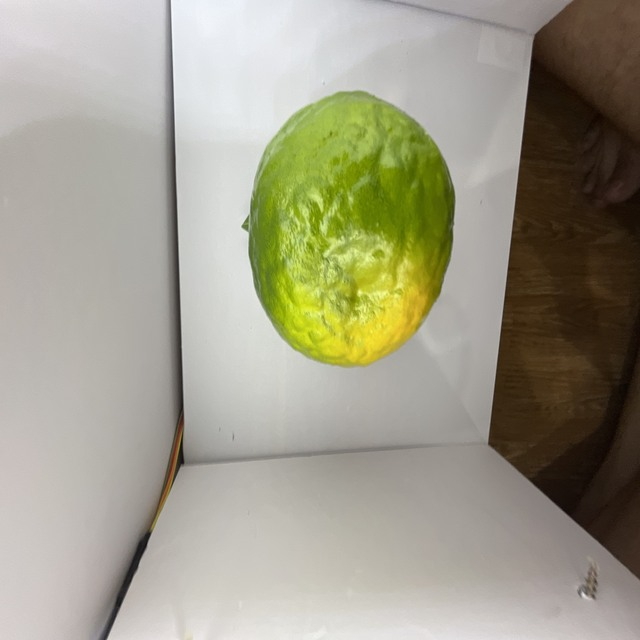Cam xanh: (234, 89, 463, 372)
